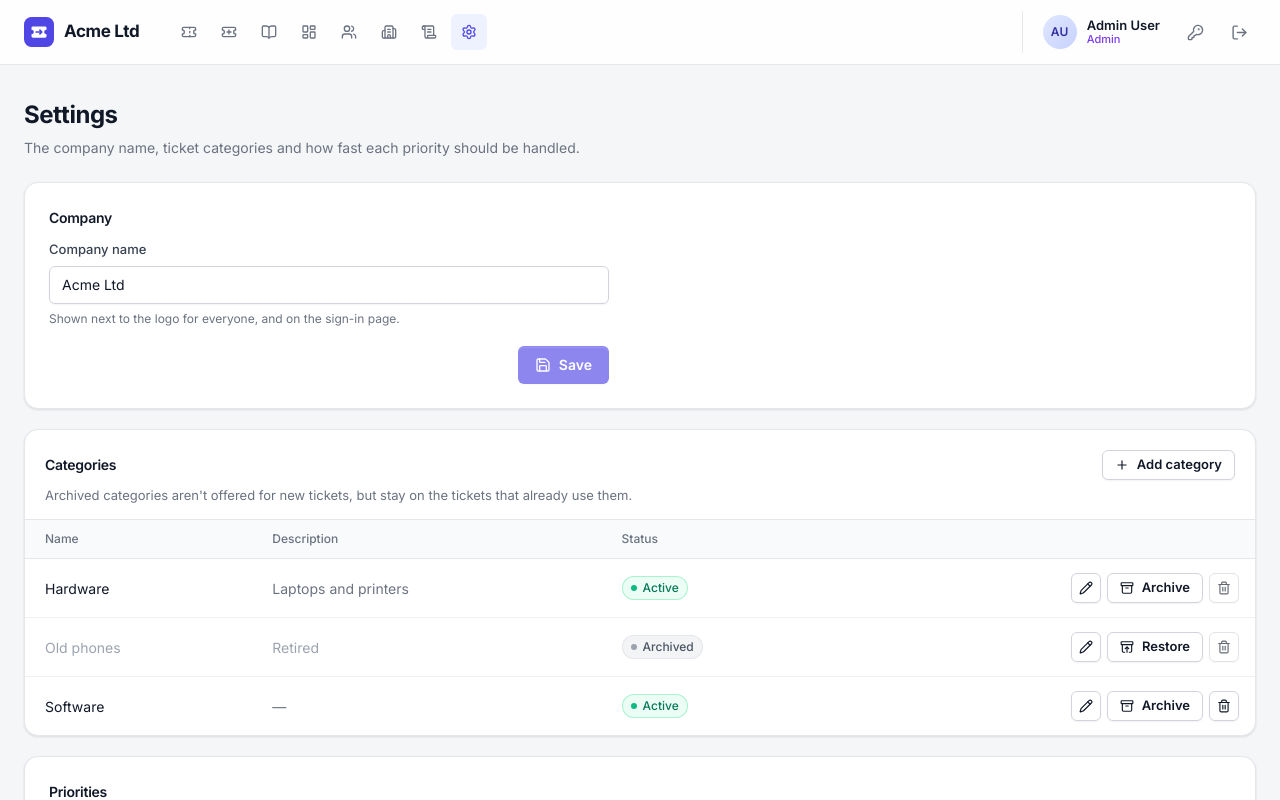
Settings: company name › shows the saved name; Save sends it, says "Saved", and the top bar changes at once
This screenshot has width=1280, height=800.
Expected: the heading "Settings" is shown, [24,100,118,129]
Expected: the element "Categories" is shown, [24,428,1256,736]
Replace the text in the field labelled "Company name" with "  Globex Corporation " at point(329, 284), box [49,266,609,304]
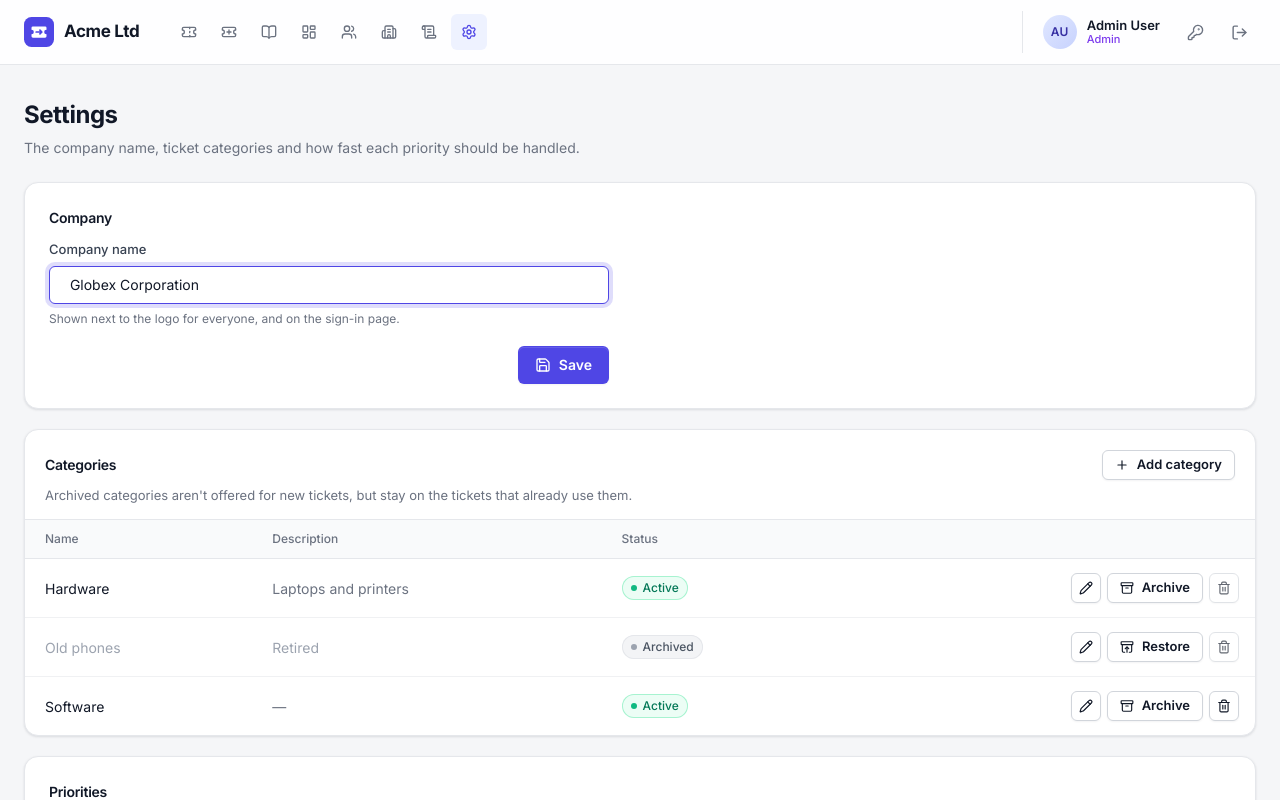
Click the button "Save".
click(563, 364)  # box [518,346,609,384]
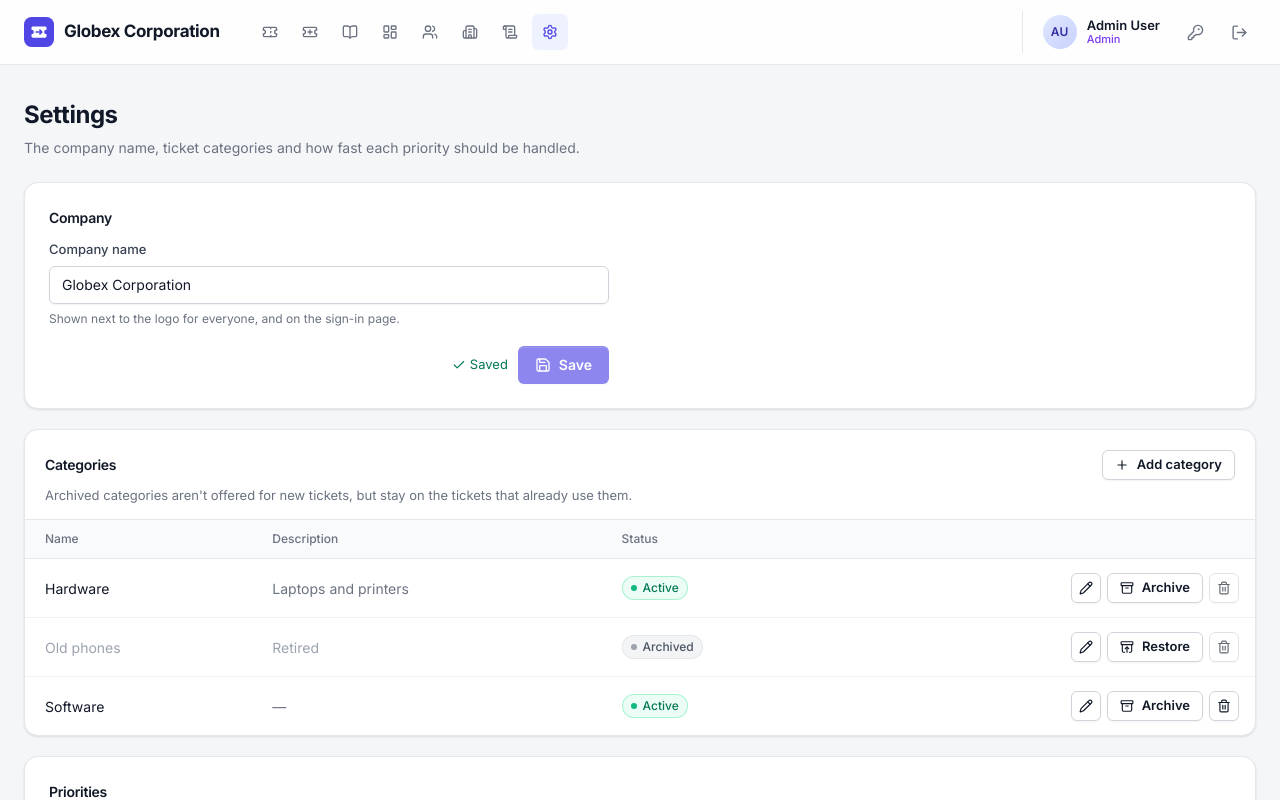
Expected: the message reads "Saved", [470,356,508,372]
Expected: the link with aria-label " home" reads "Globex Corporation", [24,17,220,47]
